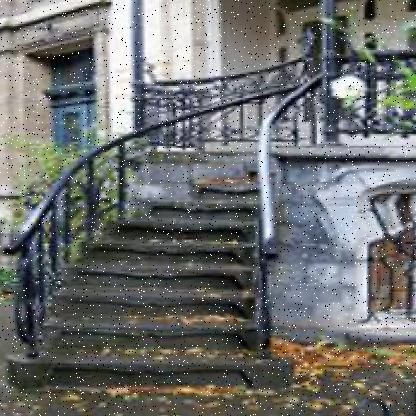stair_up: (23, 186, 281, 368)
